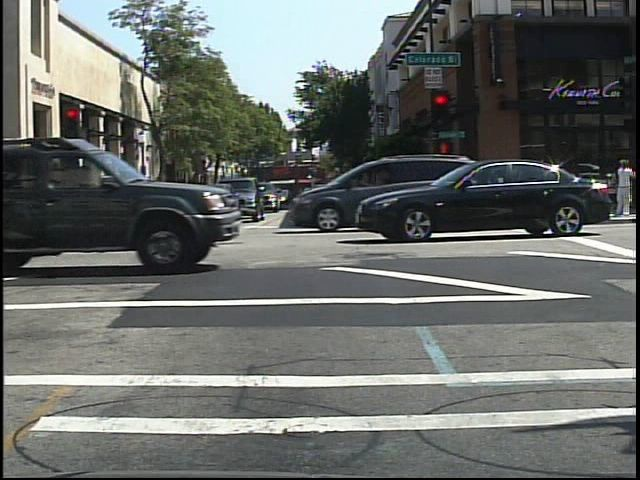person: (614, 153, 637, 218), (163, 180, 182, 220)
